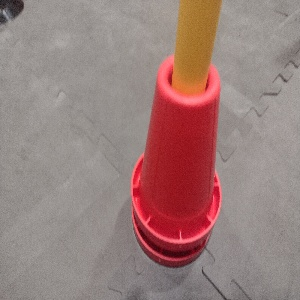Red_2: (130, 53, 221, 268)
